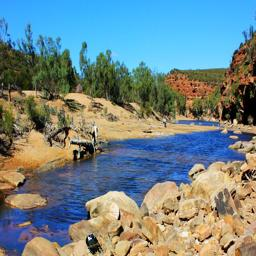Swallow: (85, 233, 104, 256)
